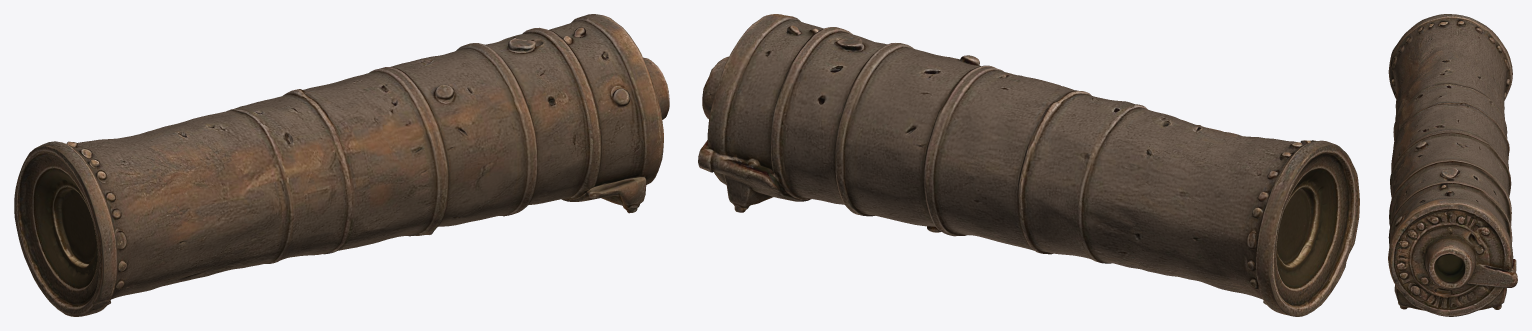
Rendered from spyglass.glb.
3 views of the same model, side by side, from view 1: azimuth 30°, elevation 25°; view 2: azimuth 150°, elevation 25°; view 3: azimuth 270°, elevation 25° (orthographic). The views are drawn at different scales.
Visible parts, largest first — view 1: tripo_node_b7be19f7-4698-4cd1-8eb2-a56d9a8f20b9; view 2: tripo_node_b7be19f7-4698-4cd1-8eb2-a56d9a8f20b9; view 3: tripo_node_b7be19f7-4698-4cd1-8eb2-a56d9a8f20b9.
Boxes of the visible parts, x1=… form: tripo_node_b7be19f7-4698-4cd1-8eb2-a56d9a8f20b9: x1=14, y1=14, x2=669, y2=316; tripo_node_b7be19f7-4698-4cd1-8eb2-a56d9a8f20b9: x1=698, y1=14, x2=1359, y2=316; tripo_node_b7be19f7-4698-4cd1-8eb2-a56d9a8f20b9: x1=1388, y1=14, x2=1517, y2=316.
Bounding box in the file's own units: 1 × 0.2793 × 0.2738.
1 material, 1 textured.
